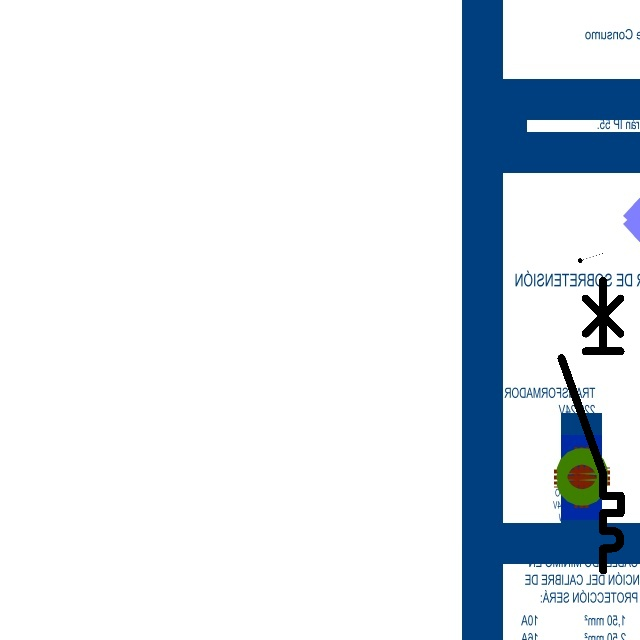interruptor_termomagnetico: (554, 273, 628, 577)
